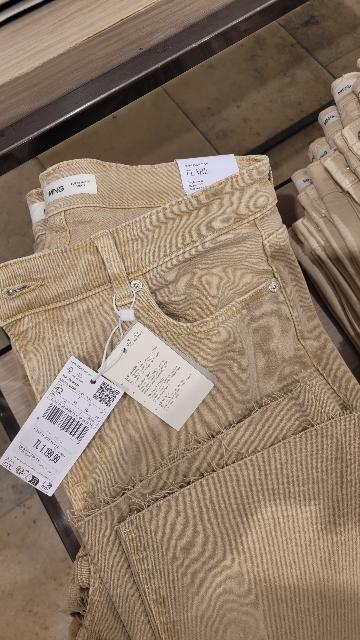Kagit: (0, 356, 124, 500), (97, 300, 225, 419)
